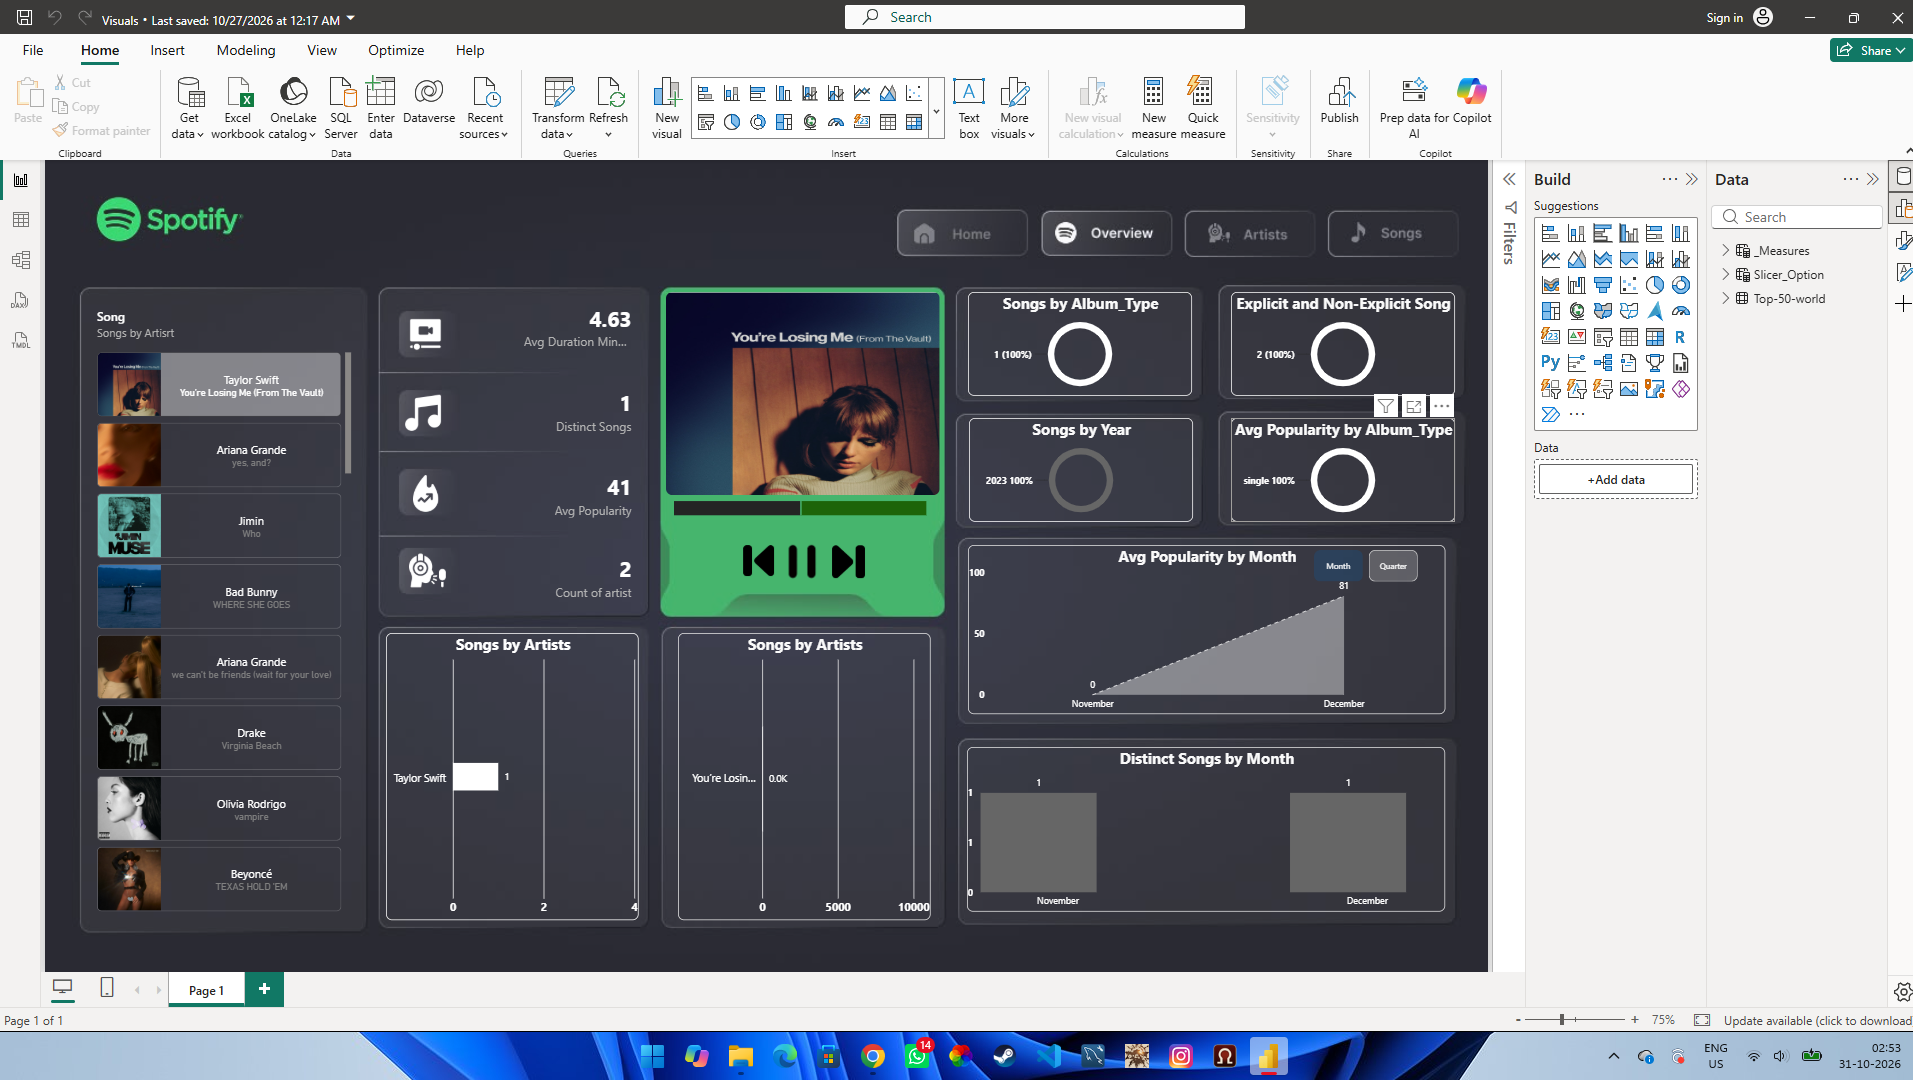

The dashboard page shown, as its layout file describes it:
{"tool":"powerbi","page":{"name":"Page 1","canvas":[1920,1080],"ordinal":0},"visuals":[{"type":"clusteredBarChart","title":"Songs by Artists","fields":{"Category":["Top-50-world.artist"],"Y":["_Measures.Distinct Songs"]},"box":[453.4,628.5,336.3,381.6],"z":0},{"type":"clusteredBarChart","title":"Songs by Artists","fields":{"Category":["Top-50-world.song"],"Y":["Avg(Top-50-world.popularity)","Avg(Top-50-world.popularity)"]},"box":[841.5,629,336.3,381.6],"z":1000},{"type":"areaChart","fields":{"Category":["Top-50-world.Month"],"Y":["_Measures.Avg Popularity"]},"box":[1227.6,512.5,635,225.3],"z":2000},{"type":"advancedSlicerVisual","fields":{"Values":["Slicer_Option.Slicer_Option"]},"box":[1687.2,518.6,139.1,42.3],"z":3000},{"type":"donutChart","title":"Songs by Album_Type","fields":{"Category":["Top-50-world.album_type"],"Y":["_Measures.Distinct Songs"]},"box":[1227,175.6,297.9,138],"z":4000},{"type":"donutChart","title":"Explicit and Non-Explicit Song","fields":{"Y":["_Measures.Explicit Songs","_Measures.Non-Explicit Songs"]},"box":[1576.8,175.4,297.9,138.3],"z":5000},{"type":"donutChart","title":"Songs by Year","fields":{"Category":["Top-50-world.Year"],"Y":["_Measures.Distinct Songs"]},"box":[1228.6,342.8,297.9,138.3],"z":6000},{"type":"donutChart","title":"Avg Popularity by Album_Type","fields":{"Category":["Top-50-world.album_type"],"Y":["_Measures.Avg Popularity"]},"box":[1577.7,342.6,297.9,138.3],"z":7000},{"type":"columnChart","fields":{"Category":["Top-50-world.Month"],"Y":["_Measures.Distinct Songs"]},"box":[1226.1,780.1,636.5,219.2],"z":8000},{"type":"cardVisual","fields":{"Data":["_Measures.Distinct Songs"]},"box":[621.4,291.3,175.4,87.7],"z":9000},{"type":"cardVisual","fields":{"Data":["CountNonNull(Top-50-world.artist)"]},"box":[621.4,512.5,175.4,87.7],"z":10000},{"type":"cardVisual","fields":{"Data":["_Measures.Avg Duration Minutes"]},"box":[621.4,175.4,175.4,93.7],"z":11000},{"type":"cardVisual","fields":{"Data":["_Measures.Avg Popularity"]},"box":[621.4,401.1,175.4,89.2],"z":12000},{"type":"image","box":[484,517,49,57],"z":13000},{"type":"image","box":[481,204,49,57],"z":14000},{"type":"image","box":[479,306.9,48,57],"z":15000},{"type":"image","box":[489,415,49,57],"z":16000},{"type":"advancedSlicerVisual","title":"Song","fields":{"Values":["Top-50-world.song"]},"box":[69.5,196.5,338.6,805.8],"z":17000},{"type":"cardVisual","fields":{"Data":["Min(Top-50-world.album_cover_url)"]},"box":[825.4,175.4,364.3,270.6],"z":18000},{"type":"hundredPercentStackedBarChart","fields":{"Y":["_Measures.Avg Popularity","Avg(Top-50-world.popularity)"]},"box":[837,425,335.6,59],"z":19000},{"type":"image","box":[1043.1,509.5,51.4,49.9],"z":20000},{"type":"image","box":[913.1,509.5,71.1,46.9],"z":21000},{"type":"image","box":[935.8,473.2,137.6,119.4],"z":22000}]}

Visuals, with their boxes on the page's 1920x1080 design canvas (x1, y1, x2, y2). These are canvas units, not pixel positions in the 1913x1080 screenshot, which may show the page scaled, cropped or inside an application window:
"Songs by Artists" clusteredBarChart: pyautogui.locateOnScreen(453, 628, 790, 1010)
"Songs by Artists" clusteredBarChart: pyautogui.locateOnScreen(842, 629, 1178, 1011)
areaChart - Top-50-world.Month x _Measures.Avg Popularity: pyautogui.locateOnScreen(1228, 512, 1863, 738)
advancedSlicerVisual - Slicer_Option.Slicer_Option: pyautogui.locateOnScreen(1687, 519, 1826, 561)
"Songs by Album_Type" donutChart: pyautogui.locateOnScreen(1227, 176, 1525, 314)
"Explicit and Non-Explicit Song" donutChart: pyautogui.locateOnScreen(1577, 175, 1875, 314)
"Songs by Year" donutChart: pyautogui.locateOnScreen(1229, 343, 1526, 481)
"Avg Popularity by Album_Type" donutChart: pyautogui.locateOnScreen(1578, 343, 1876, 481)
columnChart - Top-50-world.Month x _Measures.Distinct Songs: pyautogui.locateOnScreen(1226, 780, 1863, 999)
cardVisual - _Measures.Distinct Songs: pyautogui.locateOnScreen(621, 291, 797, 379)
cardVisual - CountNonNull(Top-50-world.artist): pyautogui.locateOnScreen(621, 512, 797, 600)
cardVisual - _Measures.Avg Duration Minutes: pyautogui.locateOnScreen(621, 175, 797, 269)
cardVisual - _Measures.Avg Popularity: pyautogui.locateOnScreen(621, 401, 797, 490)
image: pyautogui.locateOnScreen(484, 517, 533, 574)
image: pyautogui.locateOnScreen(481, 204, 530, 261)
image: pyautogui.locateOnScreen(479, 307, 527, 364)
image: pyautogui.locateOnScreen(489, 415, 538, 472)
"Song" advancedSlicerVisual: pyautogui.locateOnScreen(70, 196, 408, 1002)
cardVisual - Min(Top-50-world.album_cover_url): pyautogui.locateOnScreen(825, 175, 1190, 446)
hundredPercentStackedBarChart - _Measures.Avg Popularity x Avg(Top-50-world.popularity): pyautogui.locateOnScreen(837, 425, 1173, 484)
image: pyautogui.locateOnScreen(1043, 510, 1094, 559)
image: pyautogui.locateOnScreen(913, 510, 984, 556)
image: pyautogui.locateOnScreen(936, 473, 1073, 593)
